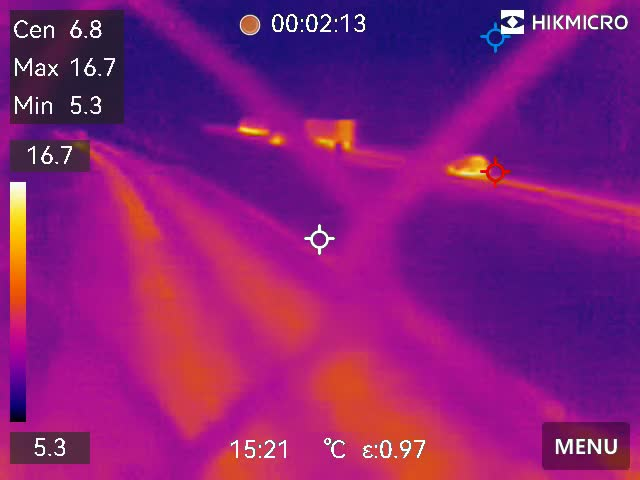heavyTruck: (291, 110, 357, 152)
vehicle: (443, 152, 489, 176)
